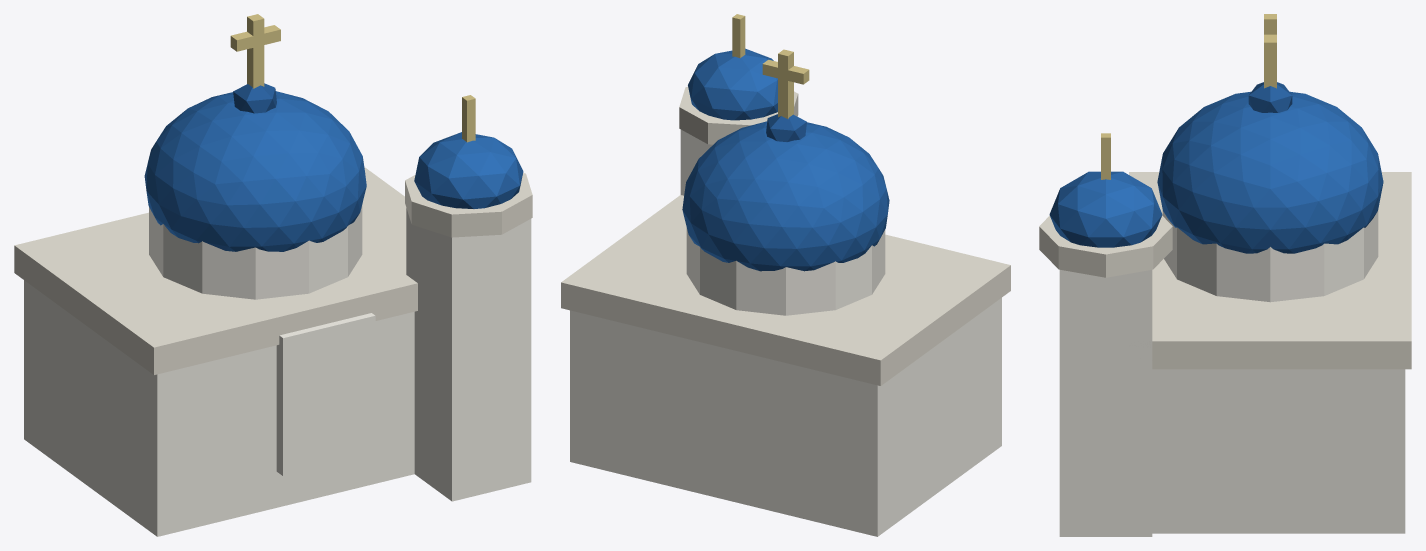
The model's file is loc_sa_bluedome.glb.
The picture shows the model from 3 angles, left to right: view 1: azimuth 30°, elevation 25°; view 2: azimuth 150°, elevation 25°; view 3: azimuth 270°, elevation 25°; orthographic projection. The views are drawn at different scales.
Visible parts, largest first — view 1: nave, nave_step, bell_tower, dome, door_frame, Cone, bell_dome, Cone.001, cross_v, dome_oculus, cross_h, bell_cross_v; view 2: nave, nave_step, dome, Cone, bell_dome, Cone.001, bell_tower, cross_v, dome_oculus, cross_h, bell_cross_v; view 3: nave, dome, nave_step, bell_tower, Cone, bell_dome, Cone.001, dome_oculus, cross_v, bell_cross_v.
Boxes of the visible parts, x1,y1,x2,y2 form: nave: (24, 280, 414, 536); nave_step: (14, 167, 417, 374); bell_tower: (406, 208, 531, 501); dome: (144, 91, 366, 251); door_frame: (276, 313, 375, 476); Cone: (149, 205, 362, 299); bell_dome: (414, 132, 523, 208); Cone.001: (405, 173, 532, 237); cross_v: (247, 14, 264, 88); dome_oculus: (233, 83, 276, 113); cross_h: (230, 25, 280, 51); bell_cross_v: (462, 95, 475, 142); nave: (570, 298, 1001, 536); nave_step: (561, 195, 1010, 385); dome: (682, 121, 889, 271); Cone: (686, 228, 885, 315); bell_dome: (688, 48, 777, 120); Cone.001: (679, 86, 798, 144); bell_tower: (680, 129, 712, 195); cross_v: (778, 49, 793, 118); dome_oculus: (766, 114, 806, 141); cross_h: (762, 59, 809, 84); bell_cross_v: (732, 14, 745, 58); nave: (1152, 369, 1405, 533); dome: (1157, 91, 1383, 253); nave_step: (1129, 172, 1411, 369); bell_tower: (1059, 270, 1152, 536); Cone: (1162, 210, 1378, 302); bell_dome: (1049, 171, 1162, 247); Cone.001: (1039, 215, 1172, 277); dome_oculus: (1248, 82, 1292, 112); cross_v: (1264, 14, 1276, 88); bell_cross_v: (1101, 133, 1110, 179).
Bounding box in the file's own units: 1.64 × 1.87 × 1.45.
